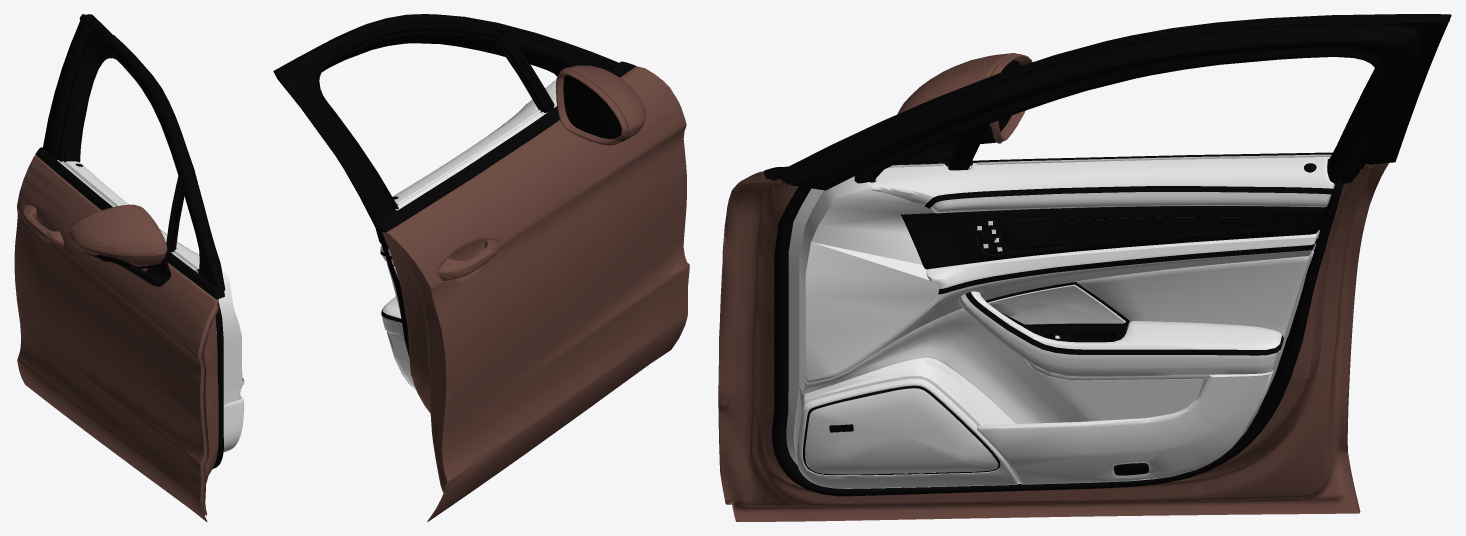
Rendered from Dreapta_Fata_Maro.fbx.
3 views of the same model, side by side, from view 1: azimuth 30°, elevation 25°; view 2: azimuth 150°, elevation 25°; view 3: azimuth 270°, elevation 25° (orthographic). The views are drawn at different scales.
Parts seen in each view (by area): view 1: door_RF; view 2: door_RF; view 3: door_RF.
Part boxes in pixels (bbox=[...]): door_RF: bbox=[14, 14, 244, 521]; door_RF: bbox=[273, 14, 689, 521]; door_RF: bbox=[718, 14, 1451, 521].
Size of the model in its own units: 923 by 1977 by 2275.
